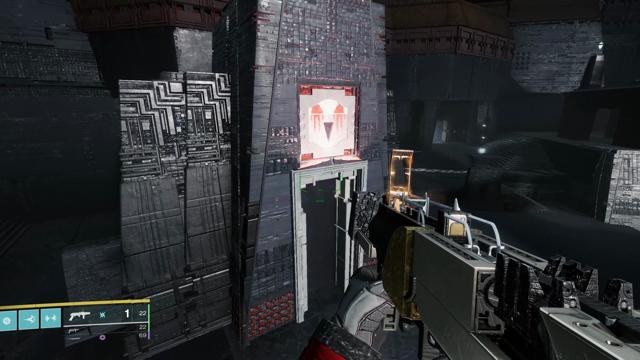give: (308, 99, 348, 149)
